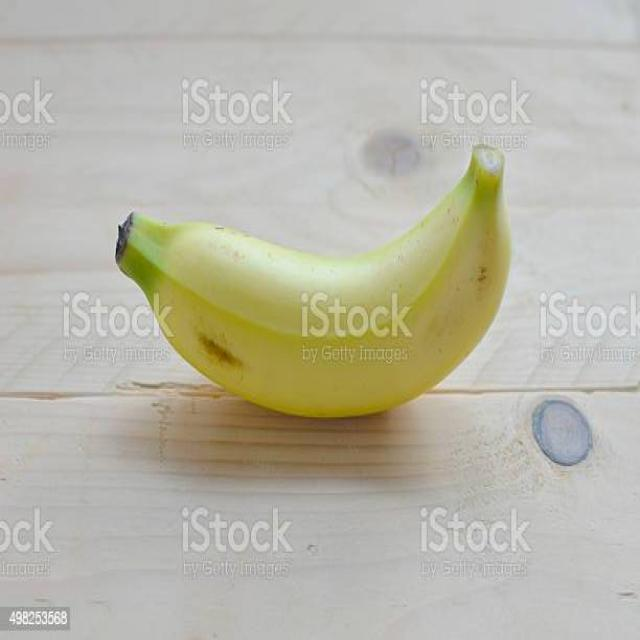banana: (110, 138, 512, 425)
